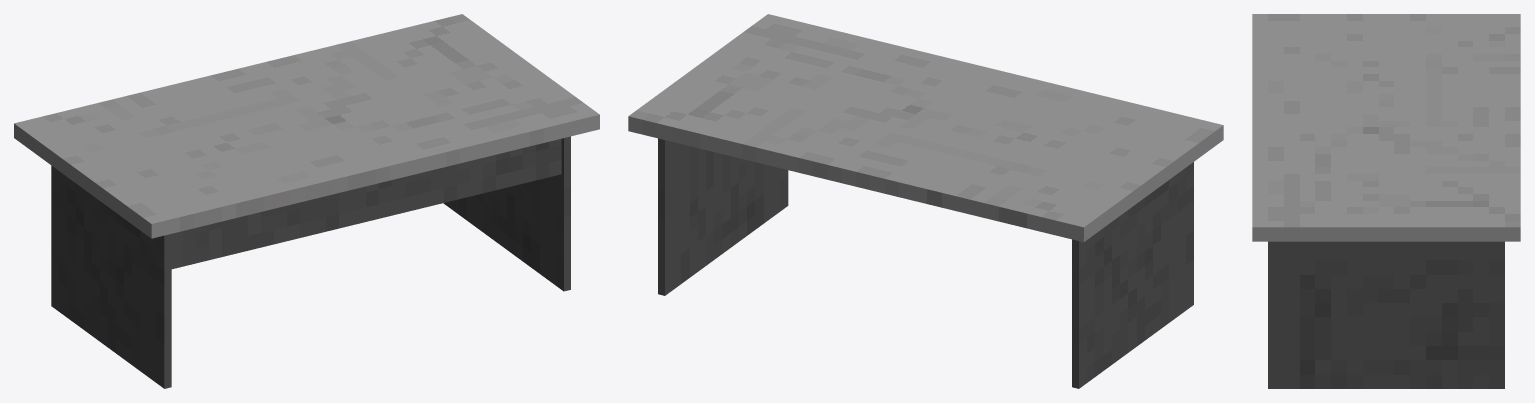
Rendered from Table.obj.
3 views of the same model, side by side, from view 1: azimuth 30°, elevation 25°; view 2: azimuth 150°, elevation 25°; view 3: azimuth 270°, elevation 25° (orthographic). The views are drawn at different scales.
Visible parts, largest first — view 1: cube; view 2: cube; view 3: cube.
Boxes of the visible parts, x1,y1,x2,y2 form: cube: [14, 14, 599, 388]; cube: [628, 14, 1223, 388]; cube: [1252, 14, 1520, 388].
Bounding box in the file's own units: 2 × 0.75 × 1.06.
2 materials, 2 textured.
